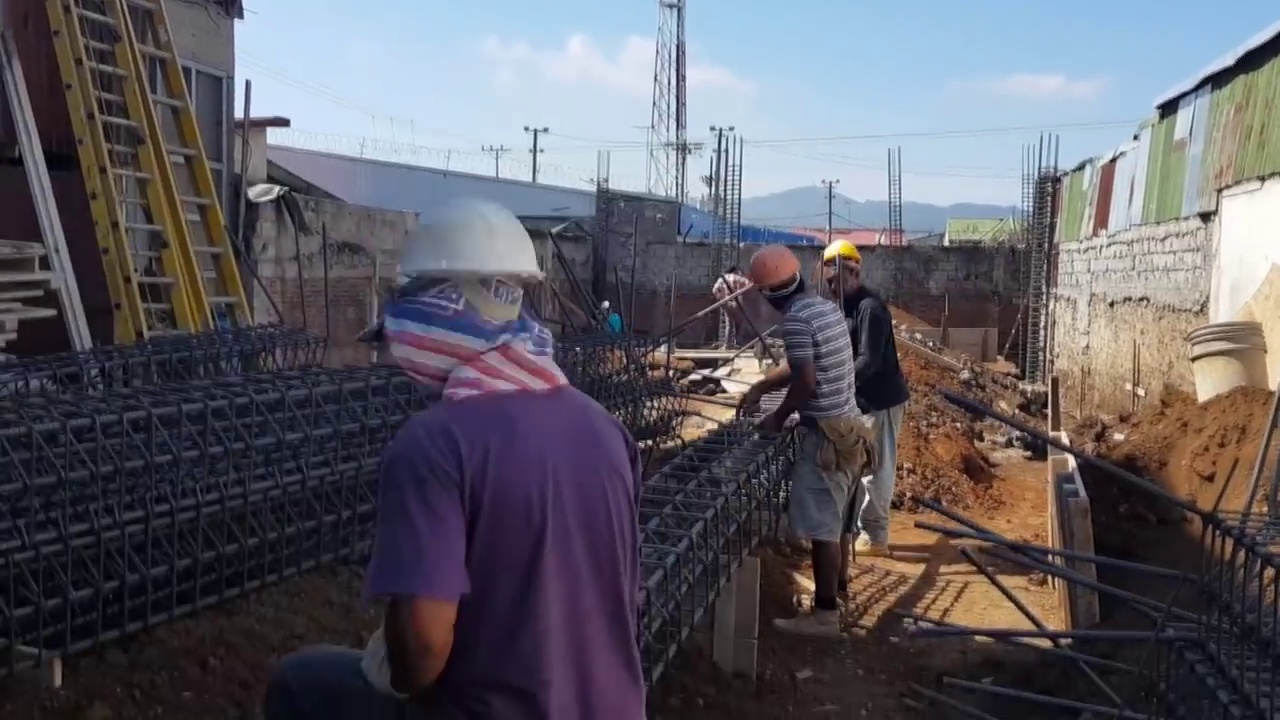helmet: (380, 197, 547, 293), (744, 243, 803, 295), (824, 235, 862, 273), (598, 302, 611, 311)
helmet-off: (722, 265, 737, 277)
helmet-on: (382, 195, 550, 391), (743, 245, 806, 311), (824, 234, 869, 293), (598, 303, 612, 318)
person: (363, 199, 662, 720), (736, 236, 869, 613), (830, 242, 907, 539), (711, 265, 750, 351), (597, 302, 621, 335)
